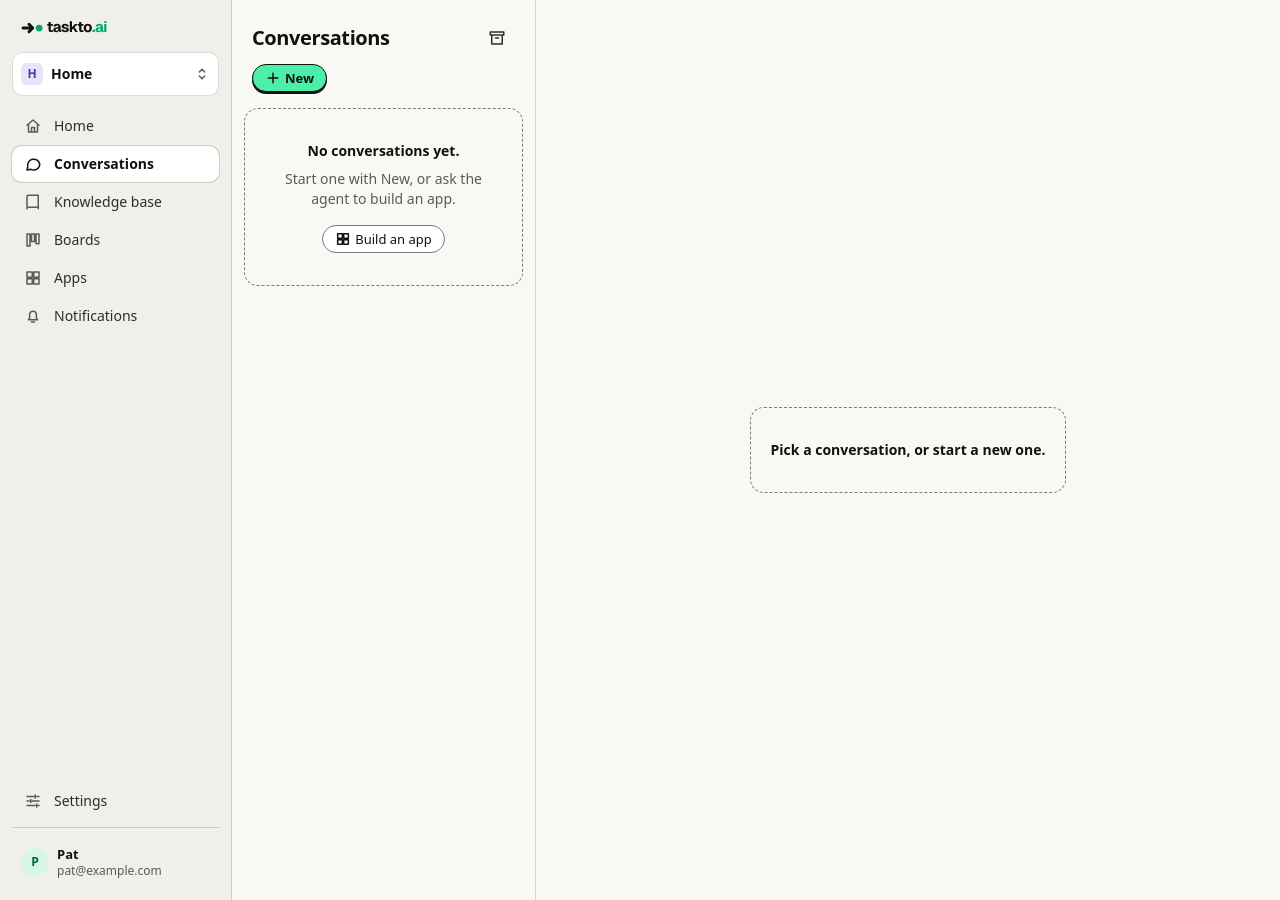
a record that appears after the person was asked is never deleted by the sign-out: they are asked again
Click the button named "Account: " at (116, 862), box [12,836,219,888]
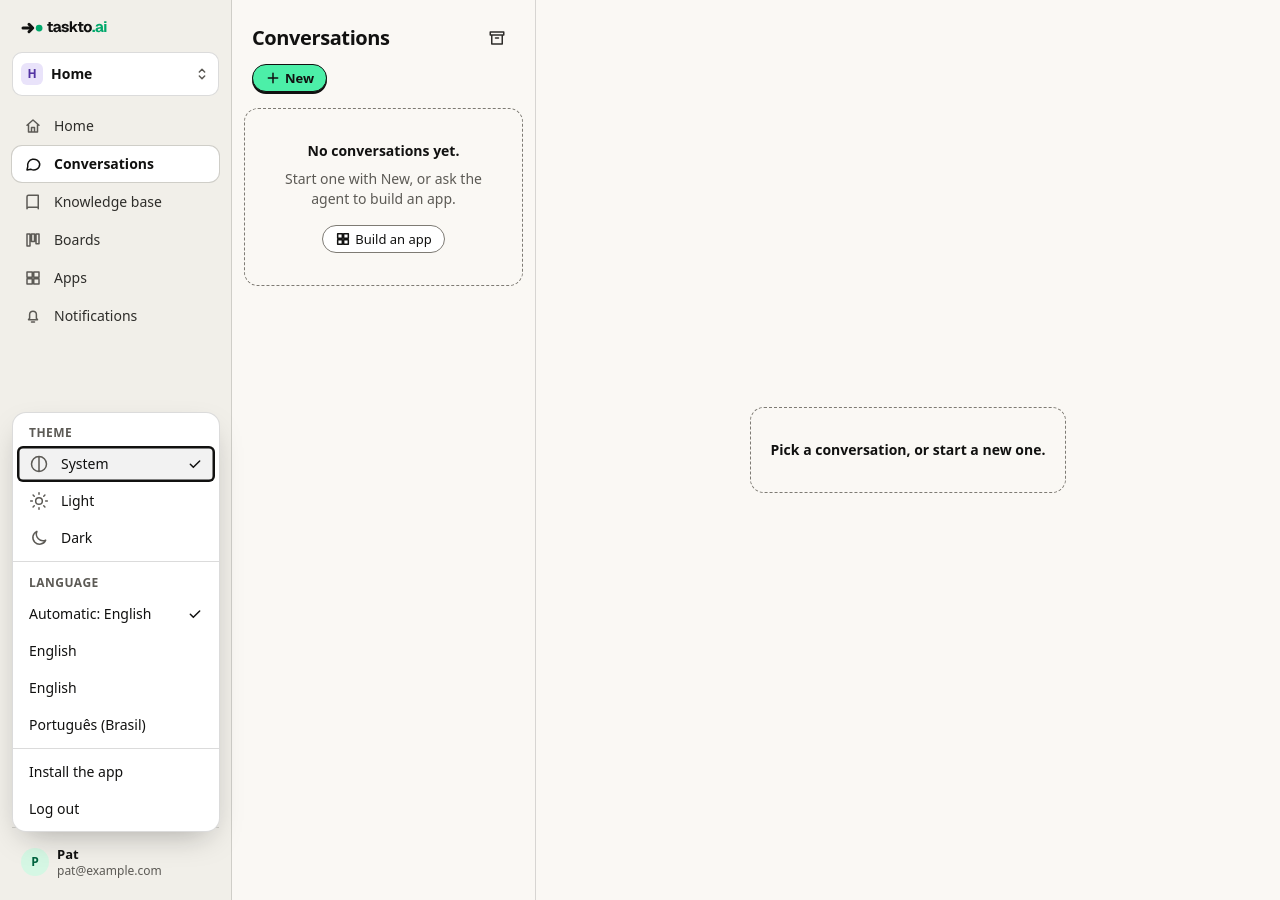
Click the menu item "Log out" at (116, 809), box [17,791,215,827]
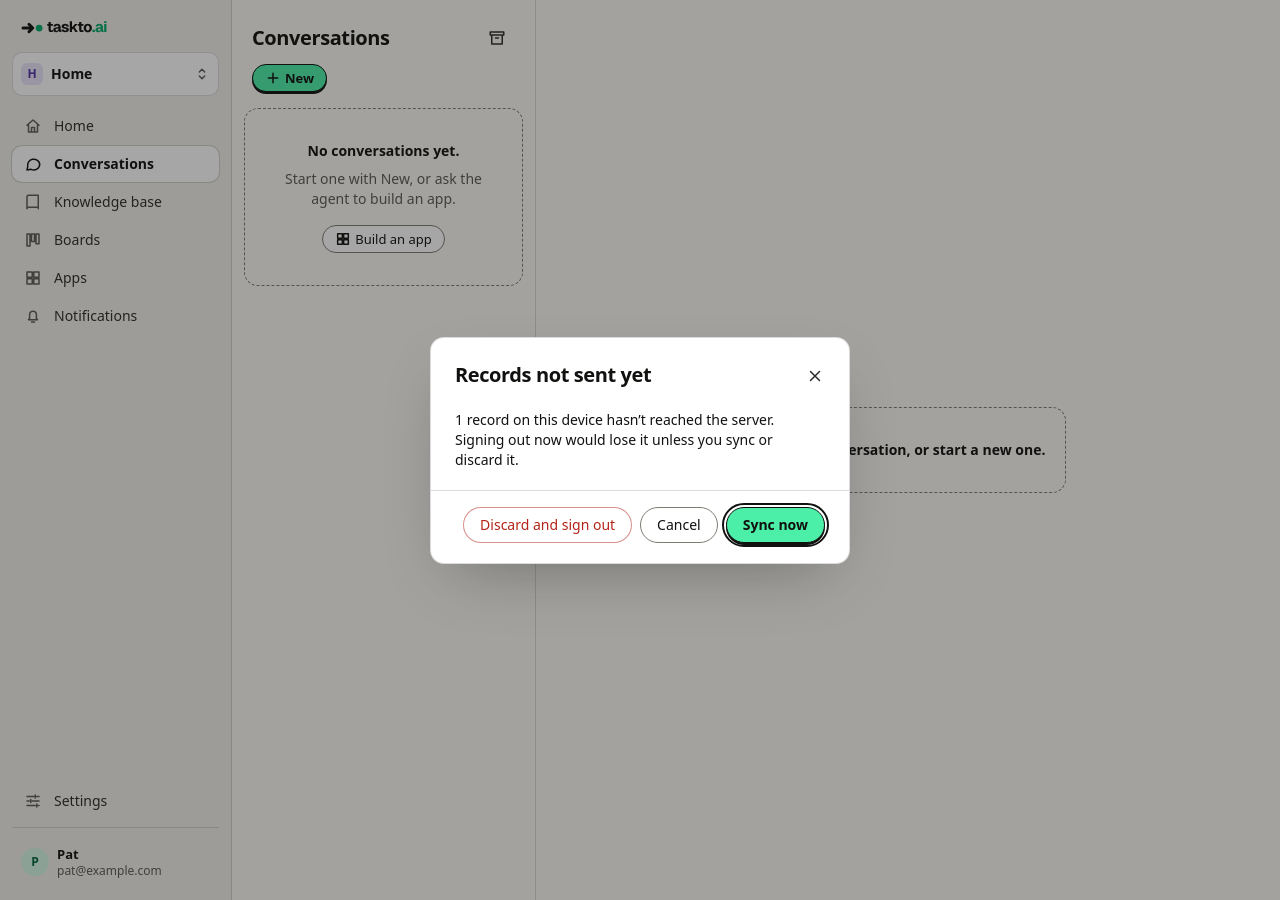
expect the dialog shows "1 record on this device hasn’t reached the server": met, box [455,410,774,468]
